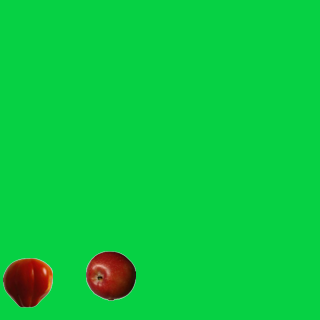Apple Braeburn: (85, 250, 135, 300)
Tomato 1: (2, 257, 52, 307)
